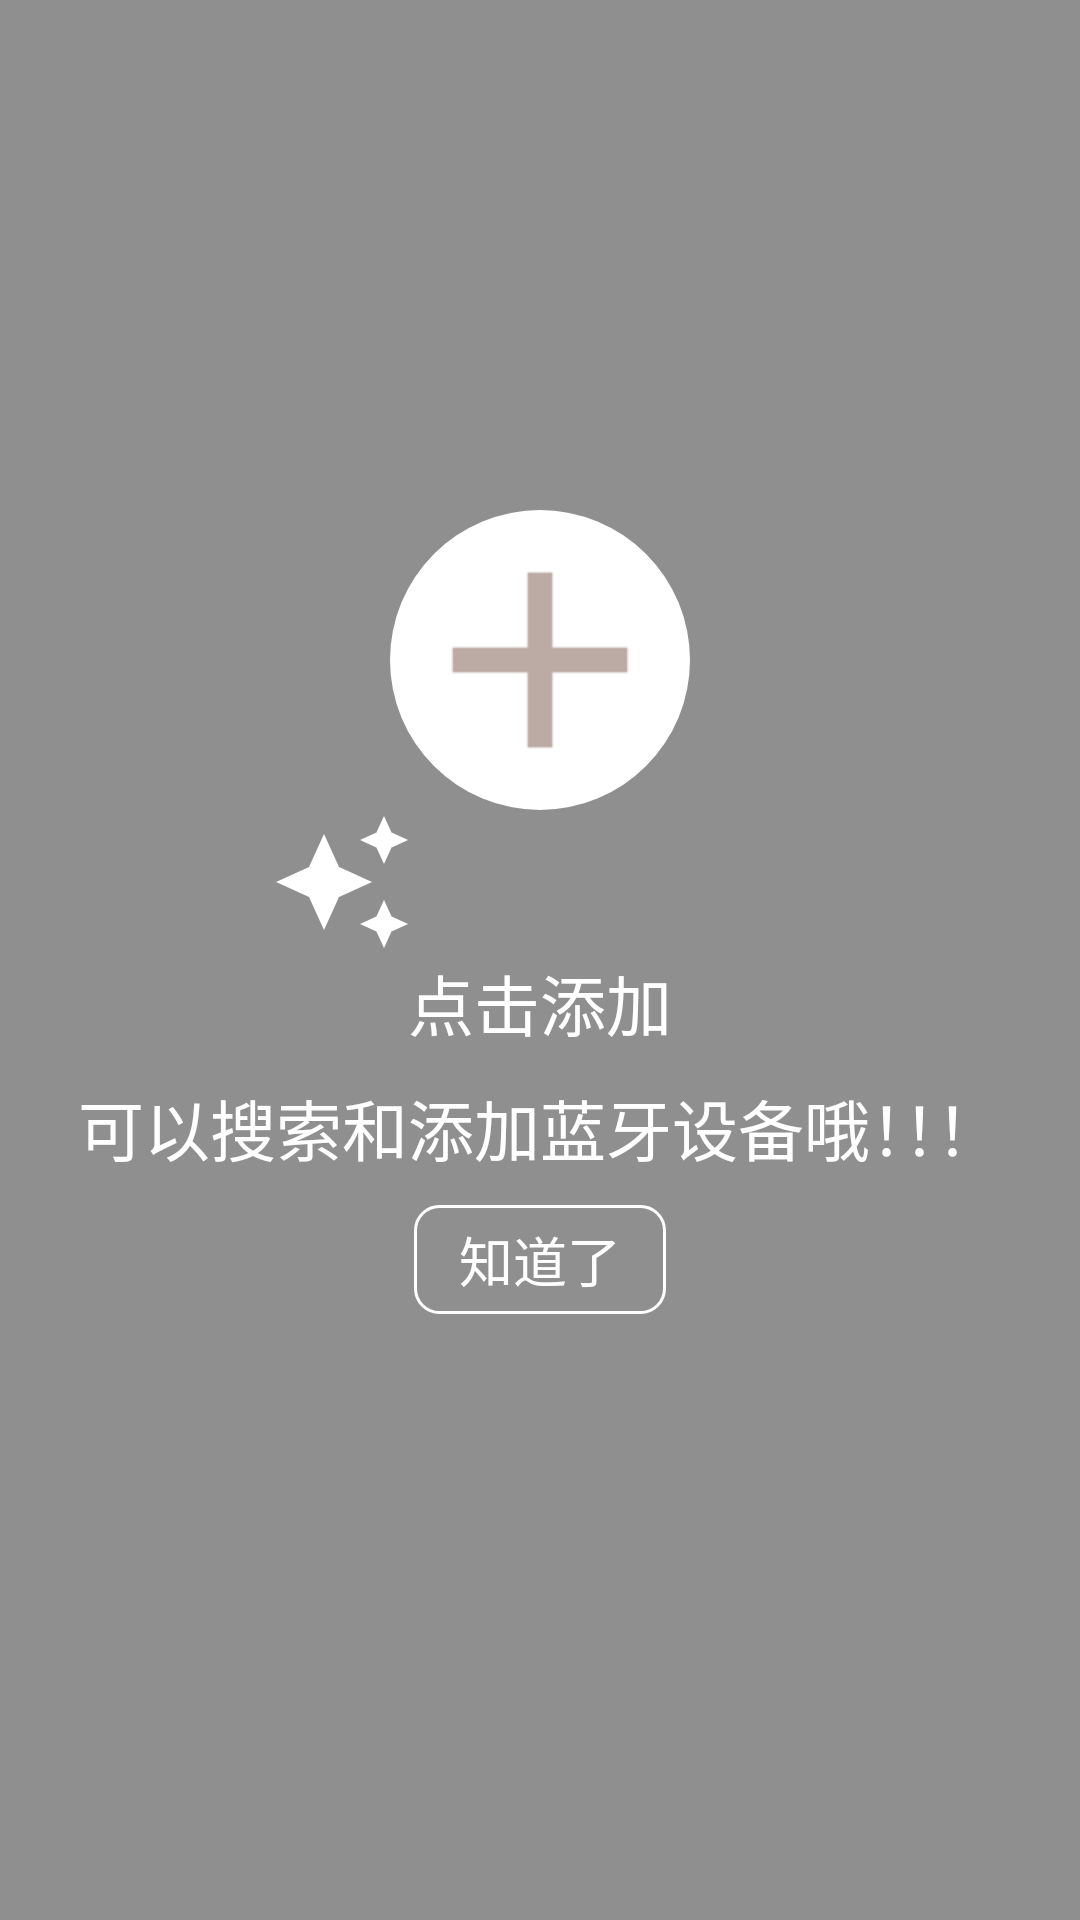

Where icons sit on this 1080×1920 app screen, as (x1, y1, x2, y2):
add: (390, 510, 690, 810)
creation: (277, 816, 408, 948)
